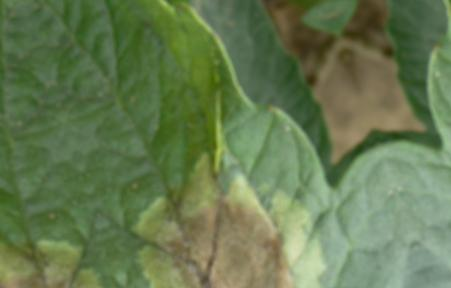Tomato leaf late blight: (13, 0, 438, 288)
